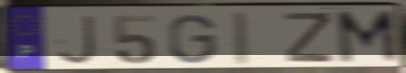5: (111, 13, 156, 66)
G: (167, 13, 218, 66)
I: (231, 9, 253, 68)
J: (55, 13, 99, 67)
M: (333, 8, 401, 67)
Z: (283, 11, 336, 65)
